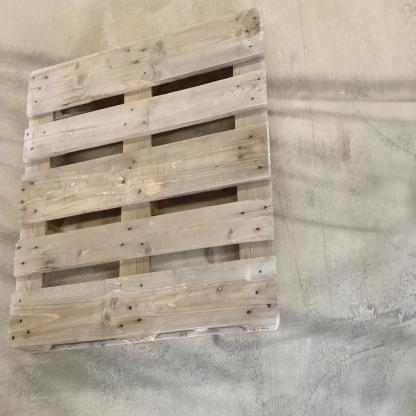BoxFace: (3, 2, 285, 365)
